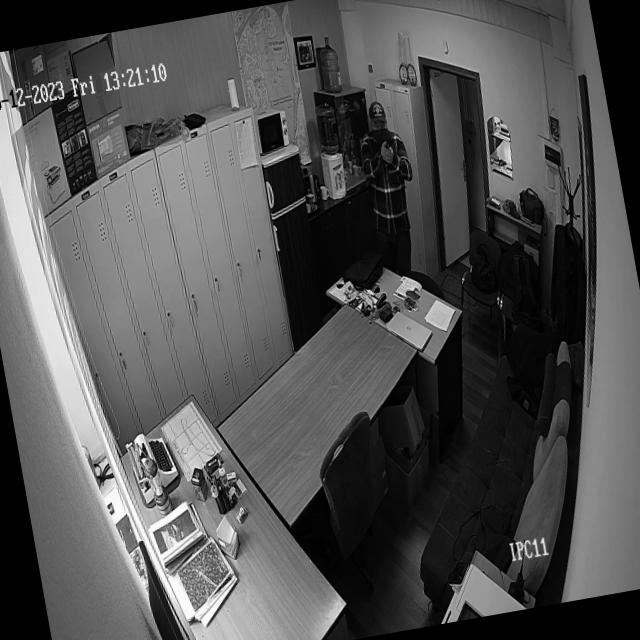gun: (382, 129, 394, 151)
person with a gun: (352, 87, 438, 276)
